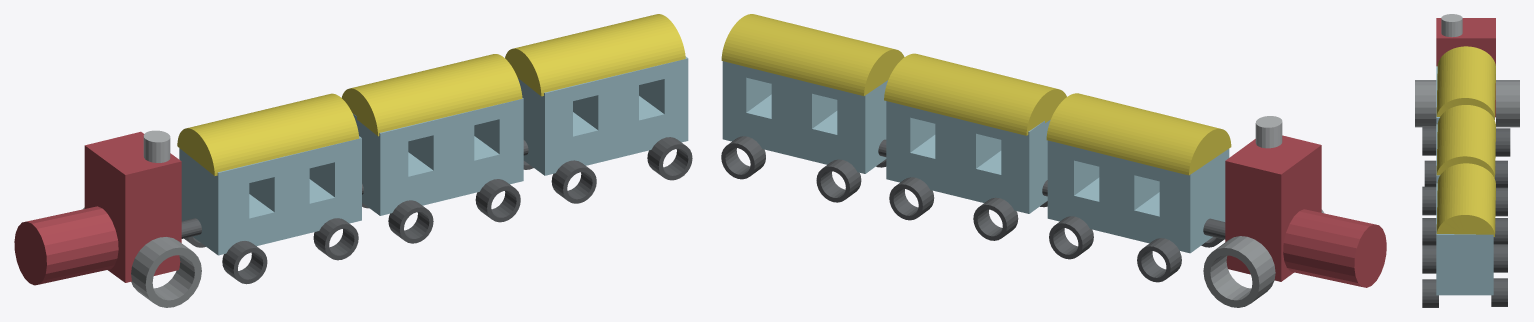
Rendered from Project 150.glb.
3 views of the same model, side by side, from view 1: azimuth 30°, elevation 25°; view 2: azimuth 150°, elevation 25°; view 3: azimuth 270°, elevation 25° (orthographic). The views are drawn at different scales.
Parts seen in each view (by area): view 1: Mesh_Mesh_head_geo.001_lambert2SG.001; view 2: Mesh_Mesh_head_geo.001_lambert2SG.001; view 3: Mesh_Mesh_head_geo.001_lambert2SG.001.
Part boxes in pixels (x1,y1,x2,y2): Mesh_Mesh_head_geo.001_lambert2SG.001: (14,14,692,307); Mesh_Mesh_head_geo.001_lambert2SG.001: (721,14,1386,307); Mesh_Mesh_head_geo.001_lambert2SG.001: (1415,14,1519,307).
Bounding box in the file's own units: 226 × 51 × 44.
